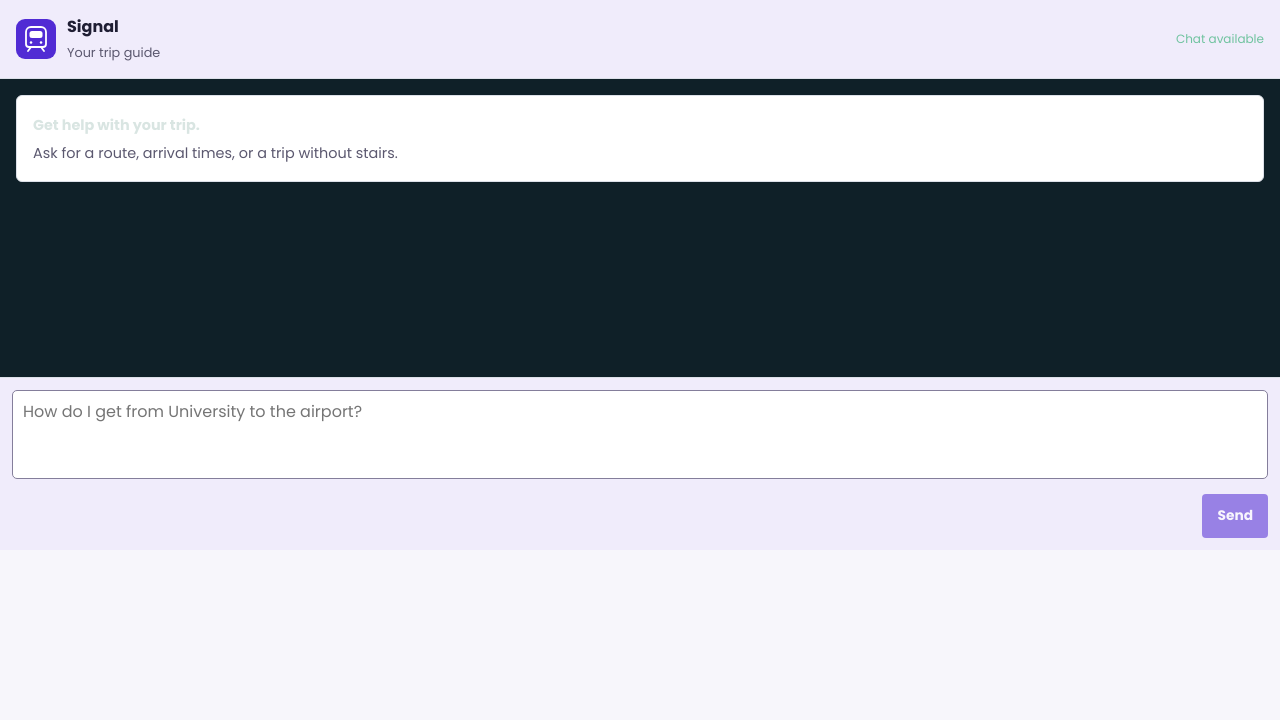
Test: renders only safe answer text for passengers and preserves follow-up context
Step 1. Type "University arrivals" into the text box → (640, 434), box [12,390,1268,479]
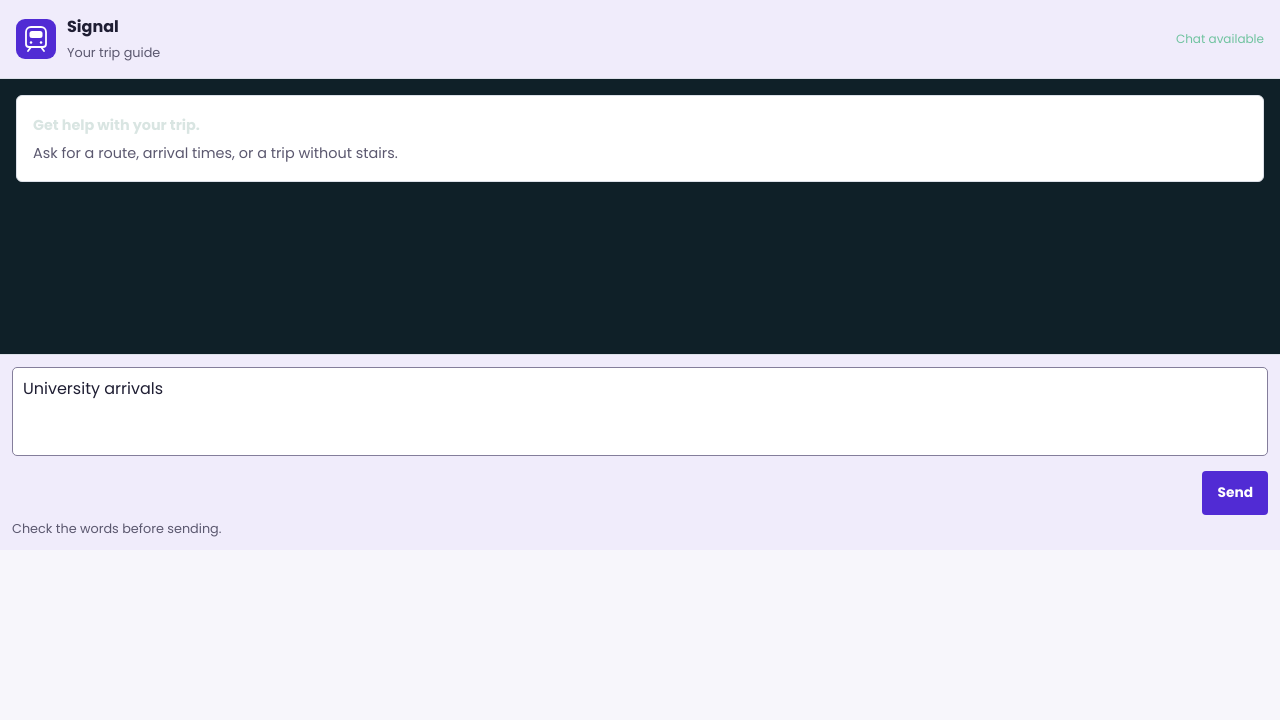
Step 2. Click the button "Send" → (1235, 493), box [1202,471,1268,515]
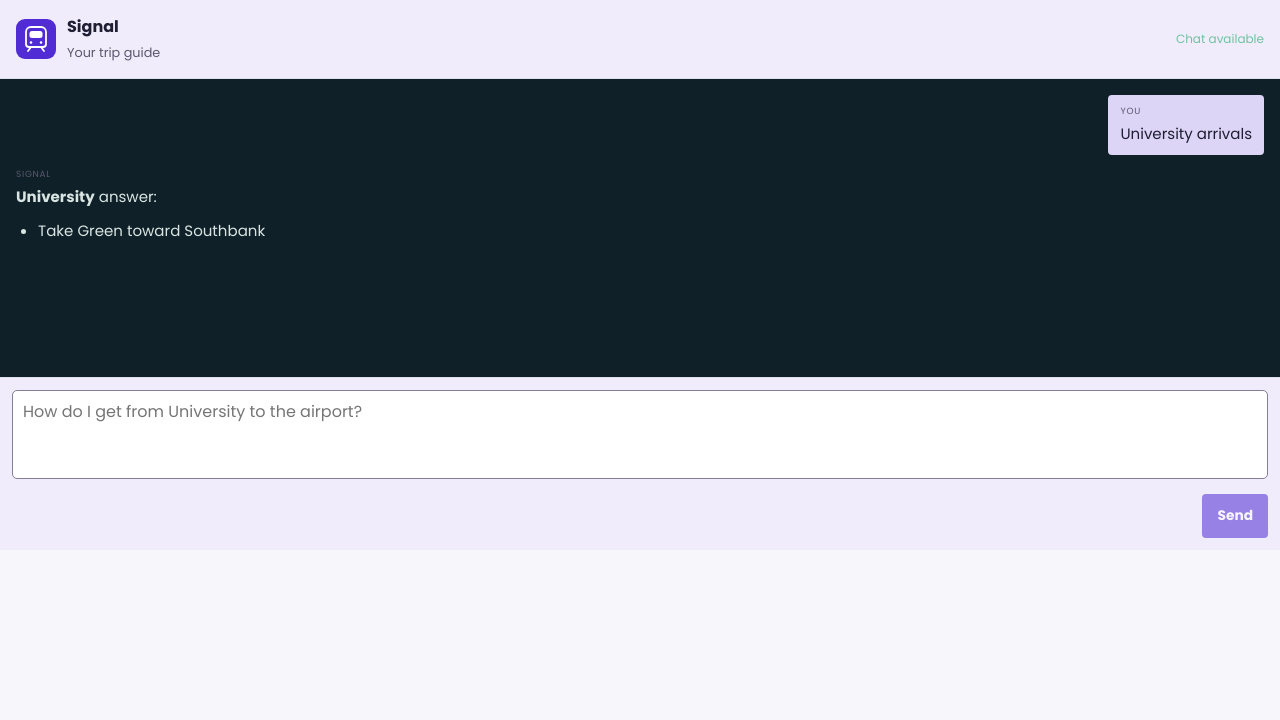
Expected: the text "University" is shown, [16,186,95,207]
Step 3. Type "What about accessibility?" into the text box → (640, 434), box [12,390,1268,479]
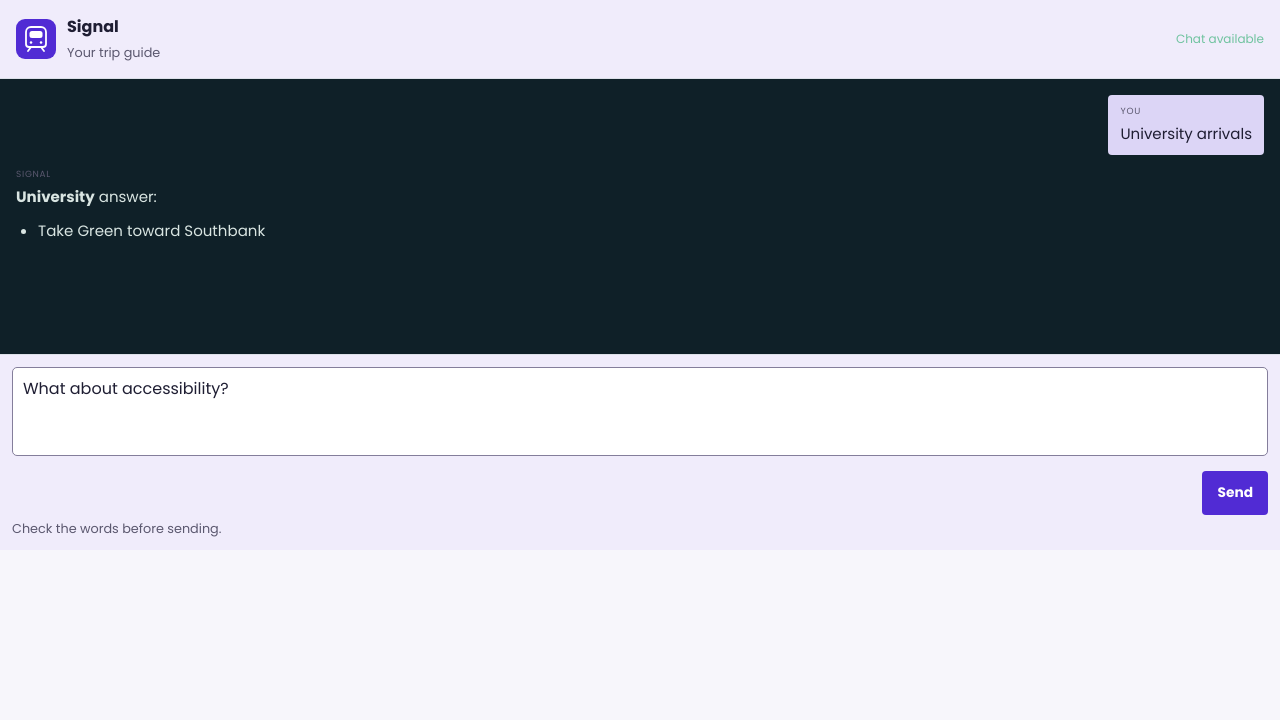
Step 4. Click the button "Send" → (1235, 493), box [1202,471,1268,515]
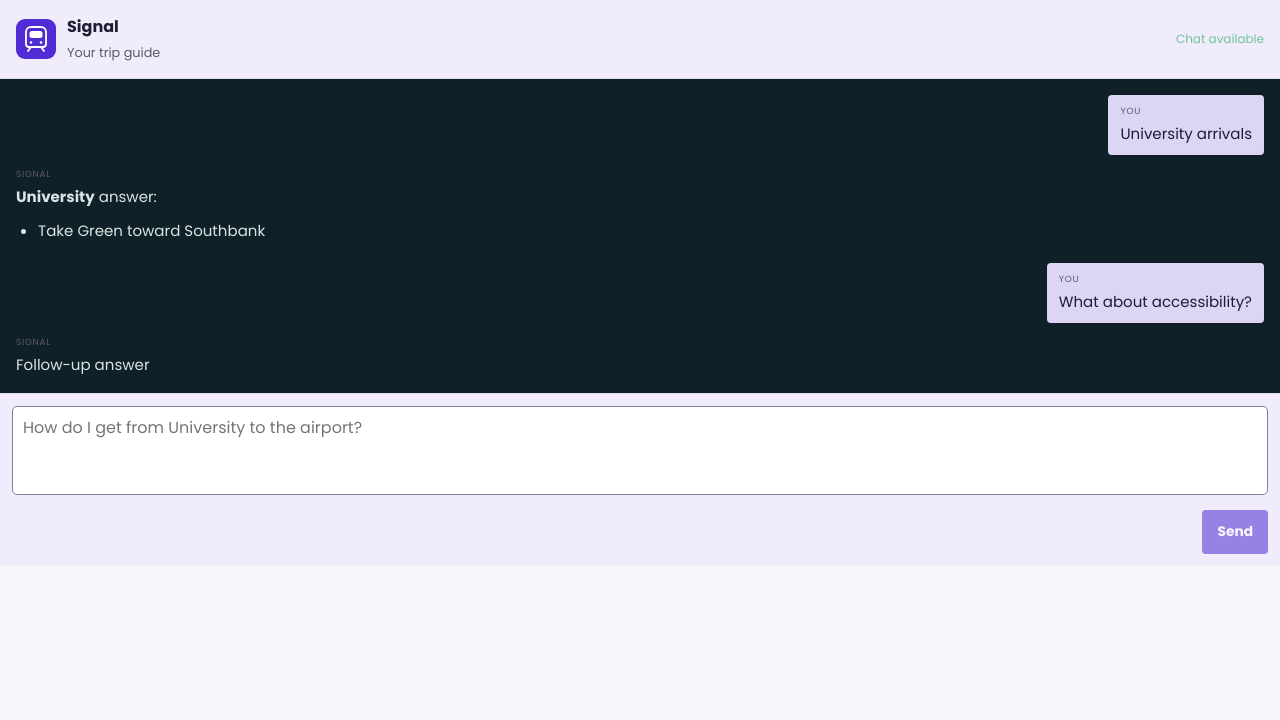
Expected: the text "Follow-up answer" is shown, [16,353,150,377]
